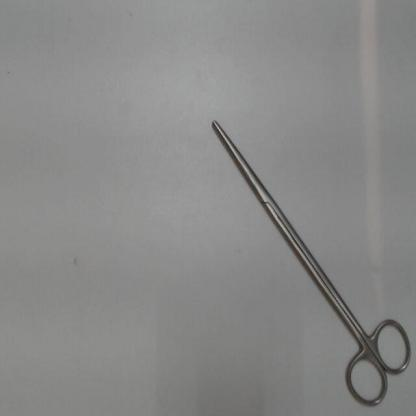9 Metzenbaum Scissors: (207, 112, 414, 410)
